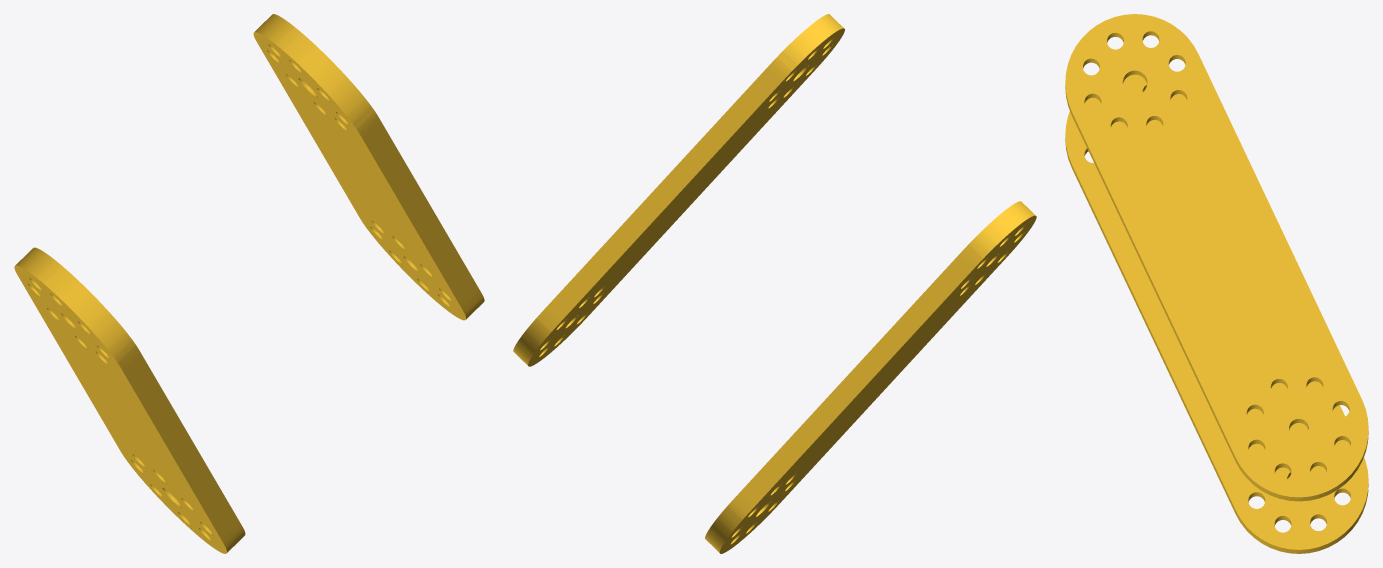
The model's file is left_leg_link1.dae.
3 views of the same model, side by side, from view 1: azimuth 30°, elevation 25°; view 2: azimuth 150°, elevation 25°; view 3: azimuth 270°, elevation 25° (orthographic). The views are drawn at different scales.
Visible parts, largest first — view 1: node0; view 2: node0; view 3: node0.
Part boxes in pixels (bbox=[...]): node0: bbox=[14, 14, 484, 553]; node0: bbox=[513, 14, 1036, 553]; node0: bbox=[1065, 14, 1368, 553].
Bounding box in the file's own units: 0.0707 × 0.076 × 0.0391.
